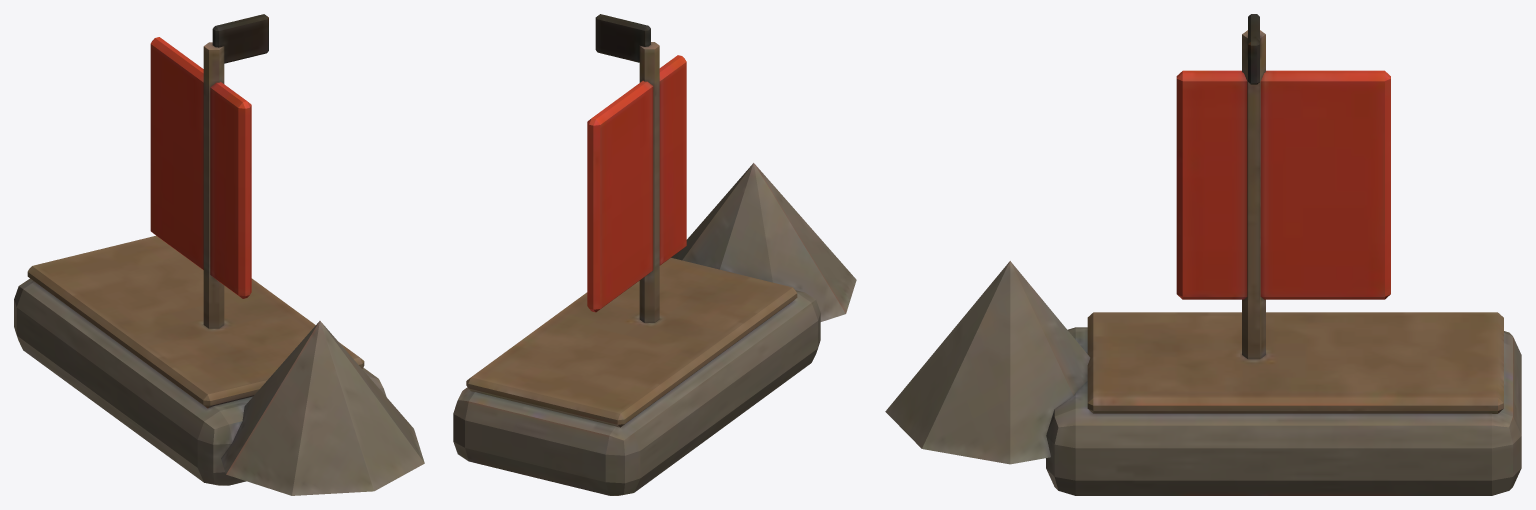
File: night-raider.glb
3 renders of one model, left to right at view 1: azimuth 30°, elevation 25°; view 2: azimuth 150°, elevation 25°; view 3: azimuth 270°, elevation 25°, orthographic. The views are drawn at different scales.
Parts seen in each view (by area): view 1: night-raider; view 2: night-raider; view 3: night-raider.
Boxes of the visible parts, bbox=[...] form: night-raider: bbox=[14, 14, 424, 495]; night-raider: bbox=[453, 14, 856, 495]; night-raider: bbox=[885, 14, 1521, 495].
Bounding box in the file's own units: 0.42 × 0.82 × 1.07.
1 material, 1 textured.
